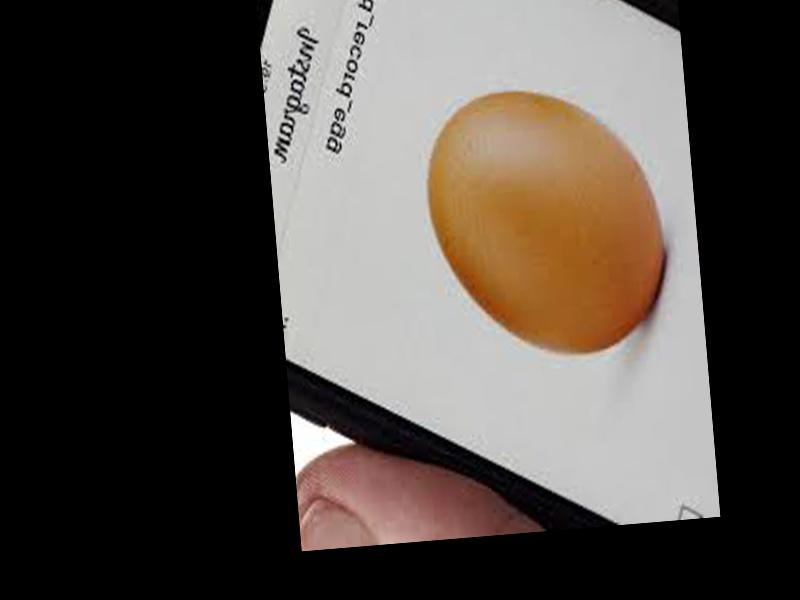Eggs: (420, 80, 671, 365)
